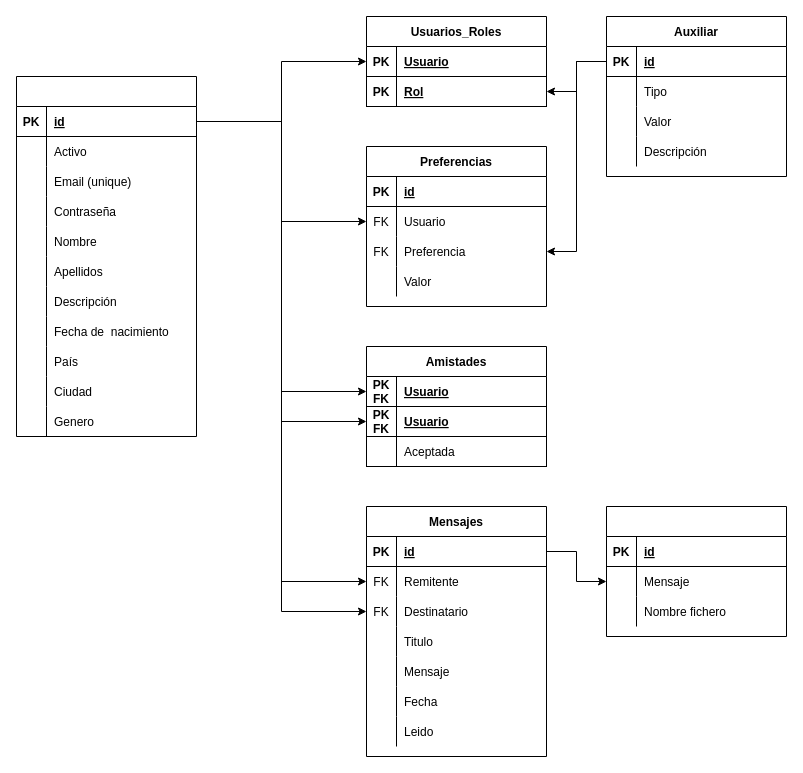
Some shapes in this 803 by 773 pixel diagram are drawn without their labels. The shapes that lost their labels are listed below. From the top down, each one's box as (x1, y1, x2, y2) in pixels, then its label:
(16, 76, 196, 436): Usuarios
(606, 506, 786, 636): Mensajes_Adjuntos
